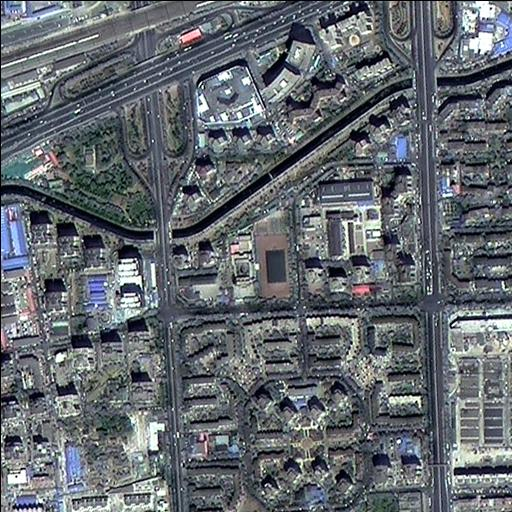school: (225, 205, 296, 309)
